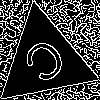C: (19, 35, 76, 95)
